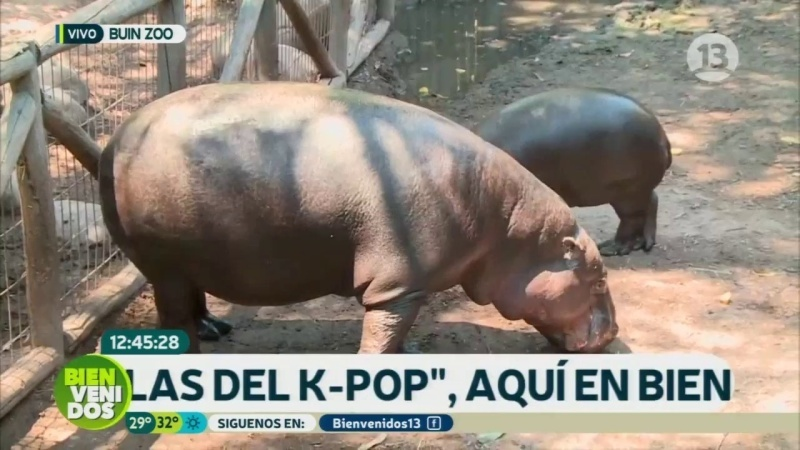hipopotamo: (92, 66, 631, 352), (468, 63, 686, 267)
